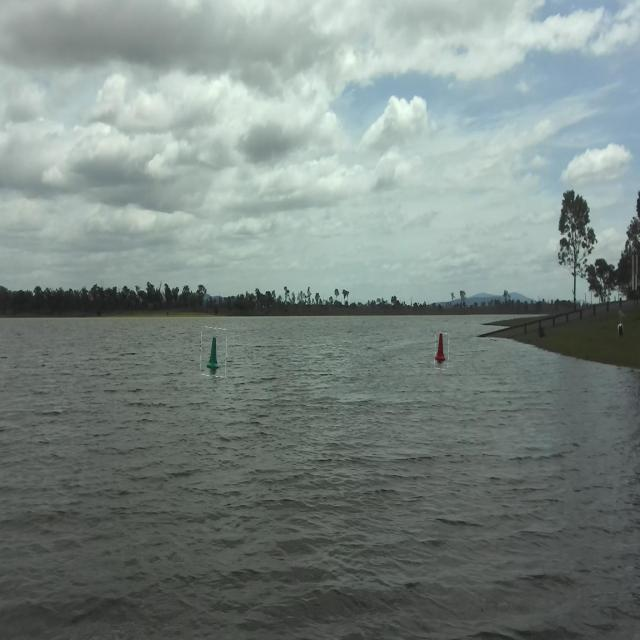Green_Buoy: (204, 326, 222, 383)
Red_Buoy: (436, 329, 447, 367)
